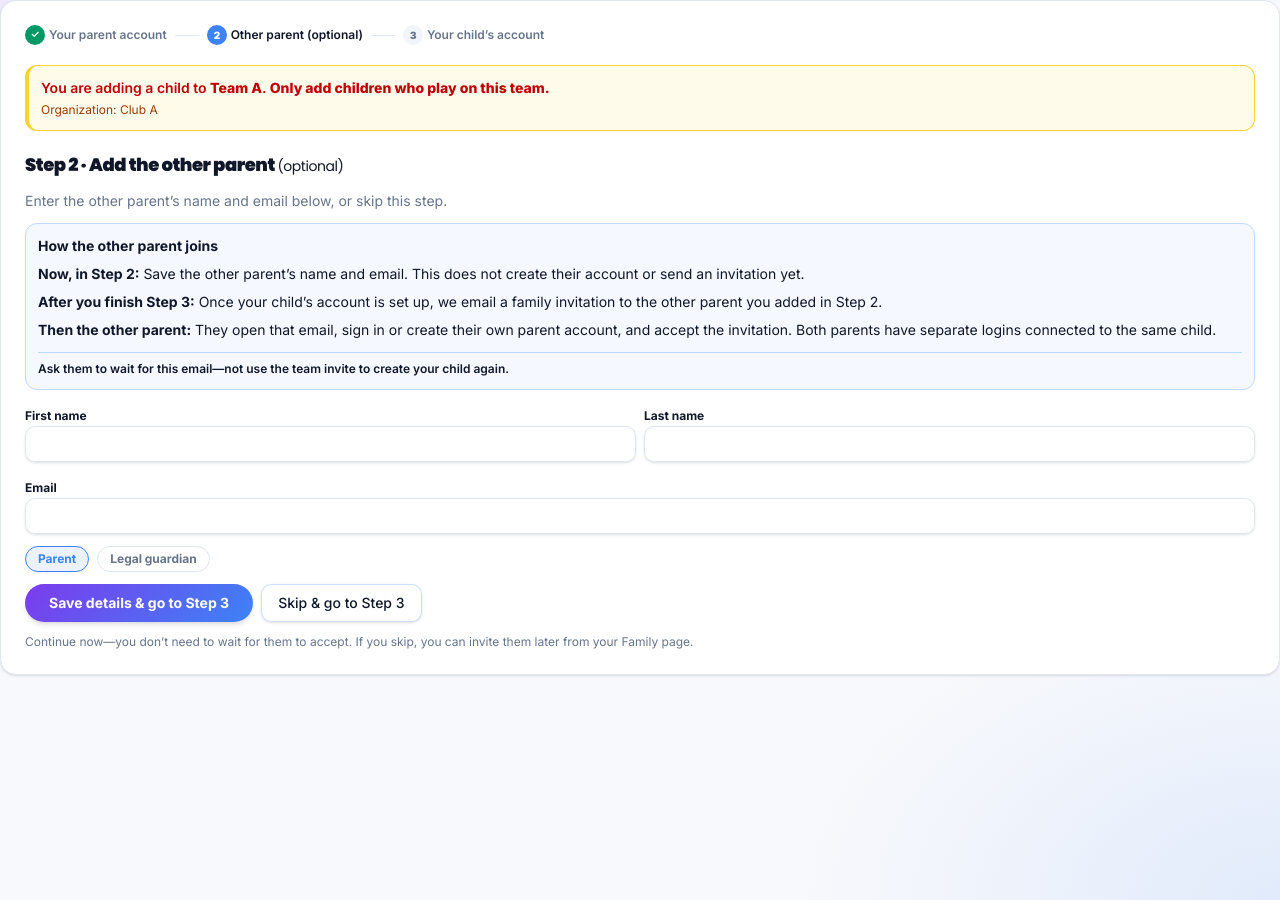
Test: FamilySetup › names the team and organization at optional parent, new-child and completion steps
Check: the element with test id "team-setup-context" shows "You are adding a child to Team A. Only add children who play on this team.", box [25,65,1255,131]
Check: the element with test id "team-setup-context" shows "Organization: Club A", box [25,65,1255,131]
Click the button with test id "btn-coparent-skip".
click(341, 603)  # box [261,584,422,622]
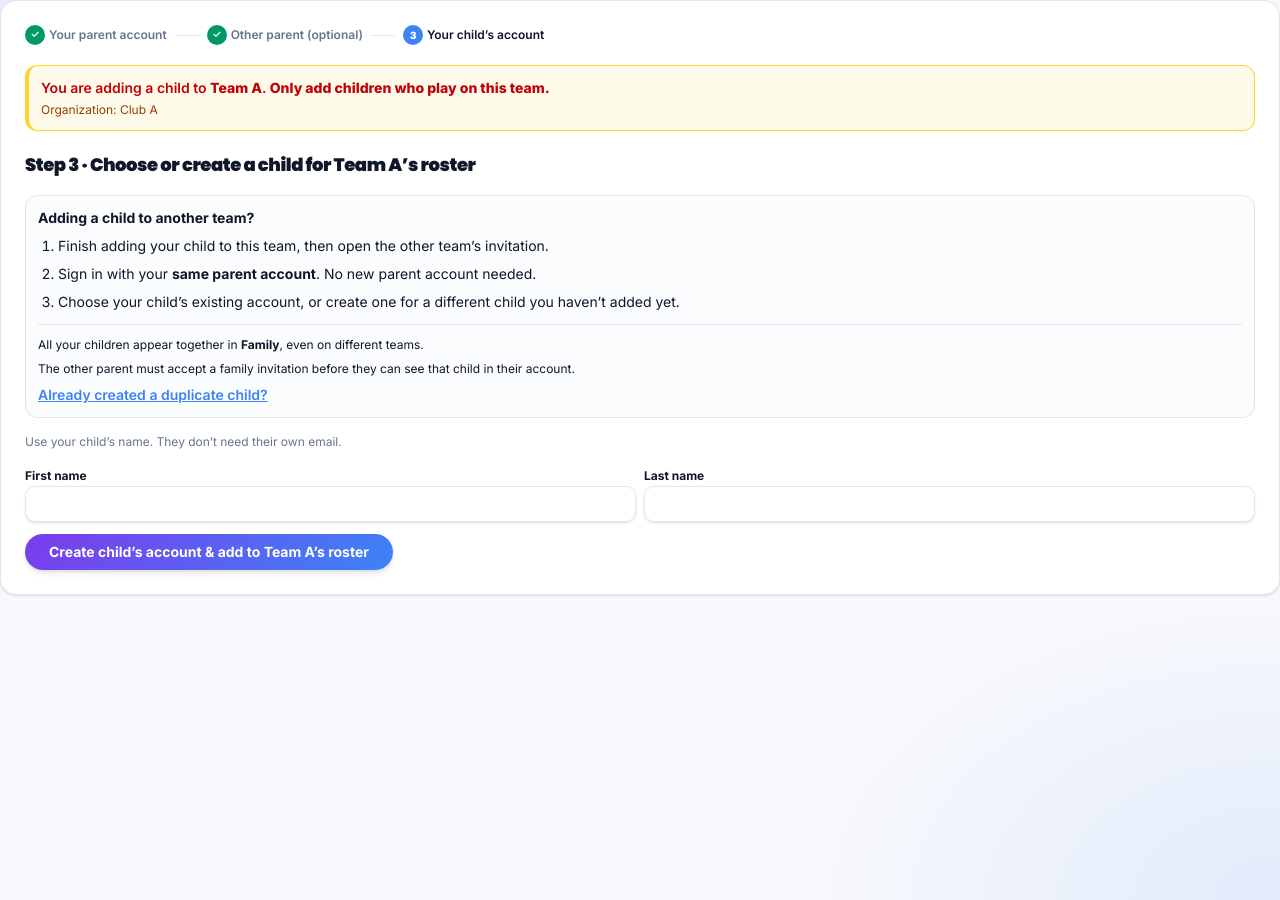
Check: the element with test id "step-player" shows "Choose or create a child for Team A’s roster", box [90,152,476,177]
Check: the element with test id "other-team-guidance" shows "Finish adding your child to this team, then open the other team’s invitation.", box [58,237,549,254]
Check: the element with test id "other-team-guidance" shows "same parent account", box [172,265,316,282]
Type "Ava" into the field with test id "input-child-first".
click(330, 504); type("Ava")  # box [25,486,636,522]
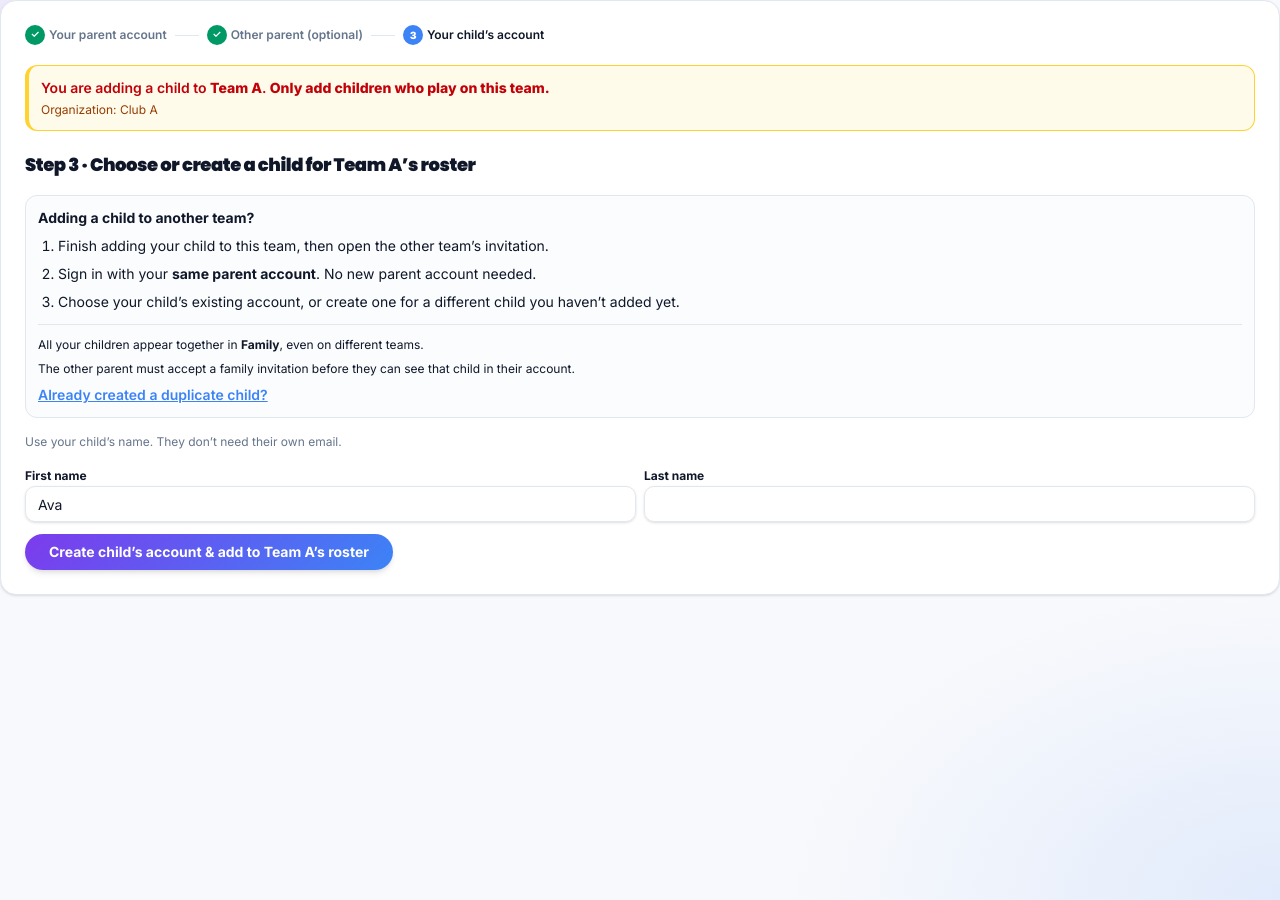
Type "Lee" into the field with test id "input-child-last".
click(950, 504); type("Lee")  # box [644,486,1255,522]
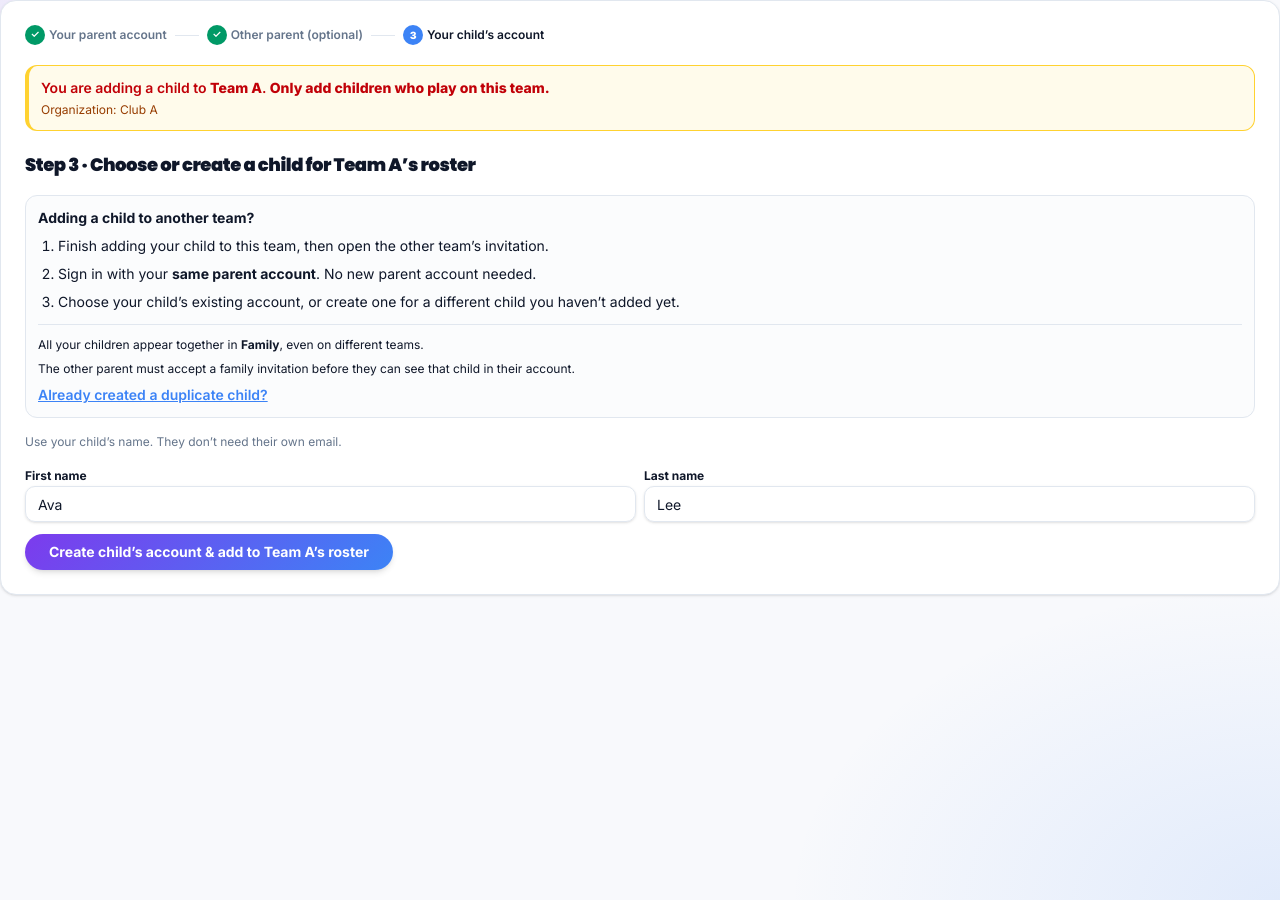
Click the button with test id "btn-add-child".
click(209, 552)  # box [25,534,393,570]
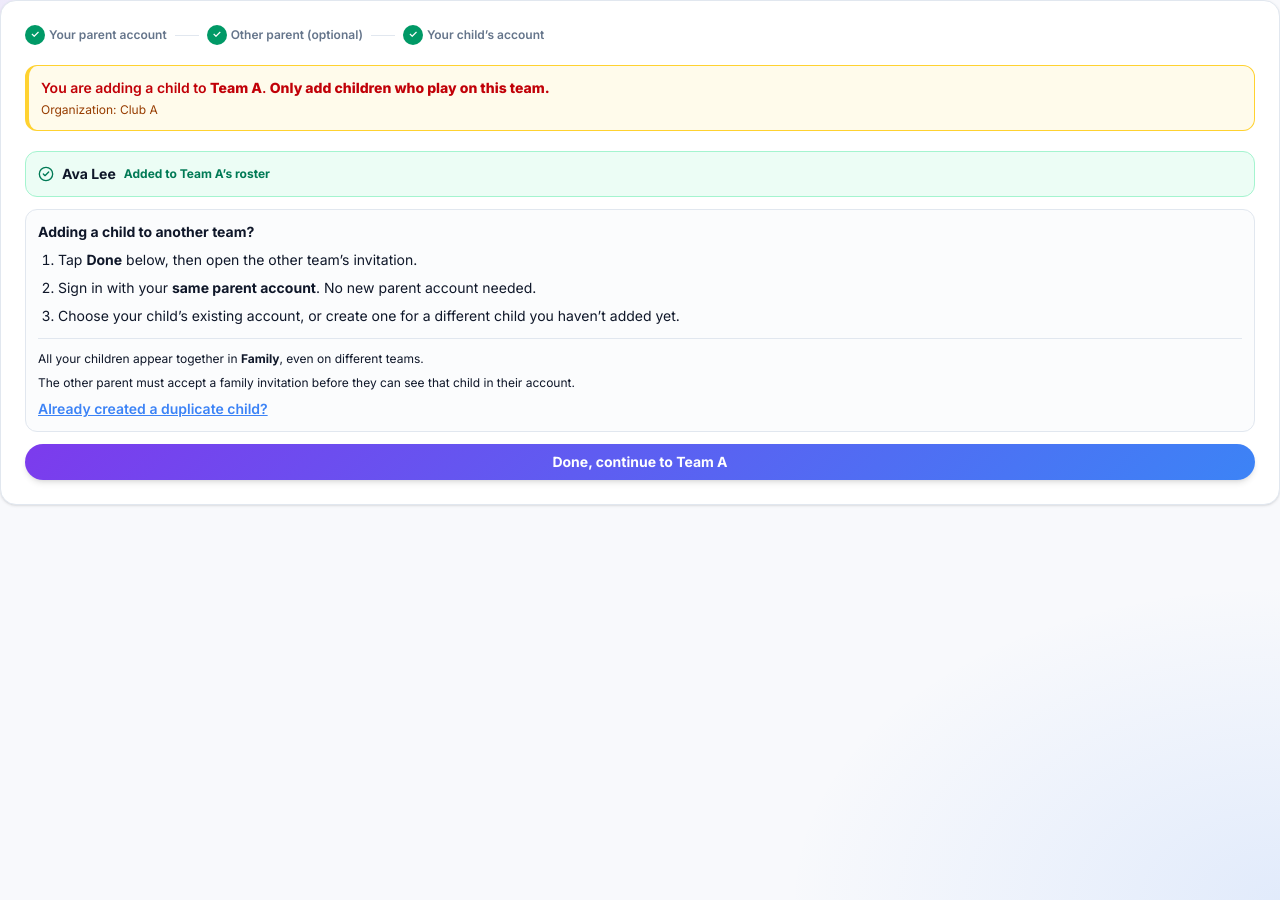
Check: the element with test id "row-added-child" shows "Added to Team A’s roster", box [124,166,270,181]
Check: the button with test id "btn-finish-setup" reads "Done, continue to Team A", box [25,444,1255,480]
Check: the element with test id "other-team-guidance" shows "Tap Done below, then open the other team’s invitation.", box [25,209,1255,432]
